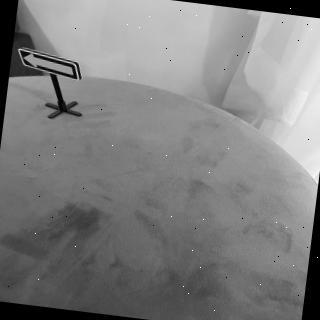sign_oneway_left: (15, 47, 88, 84)
